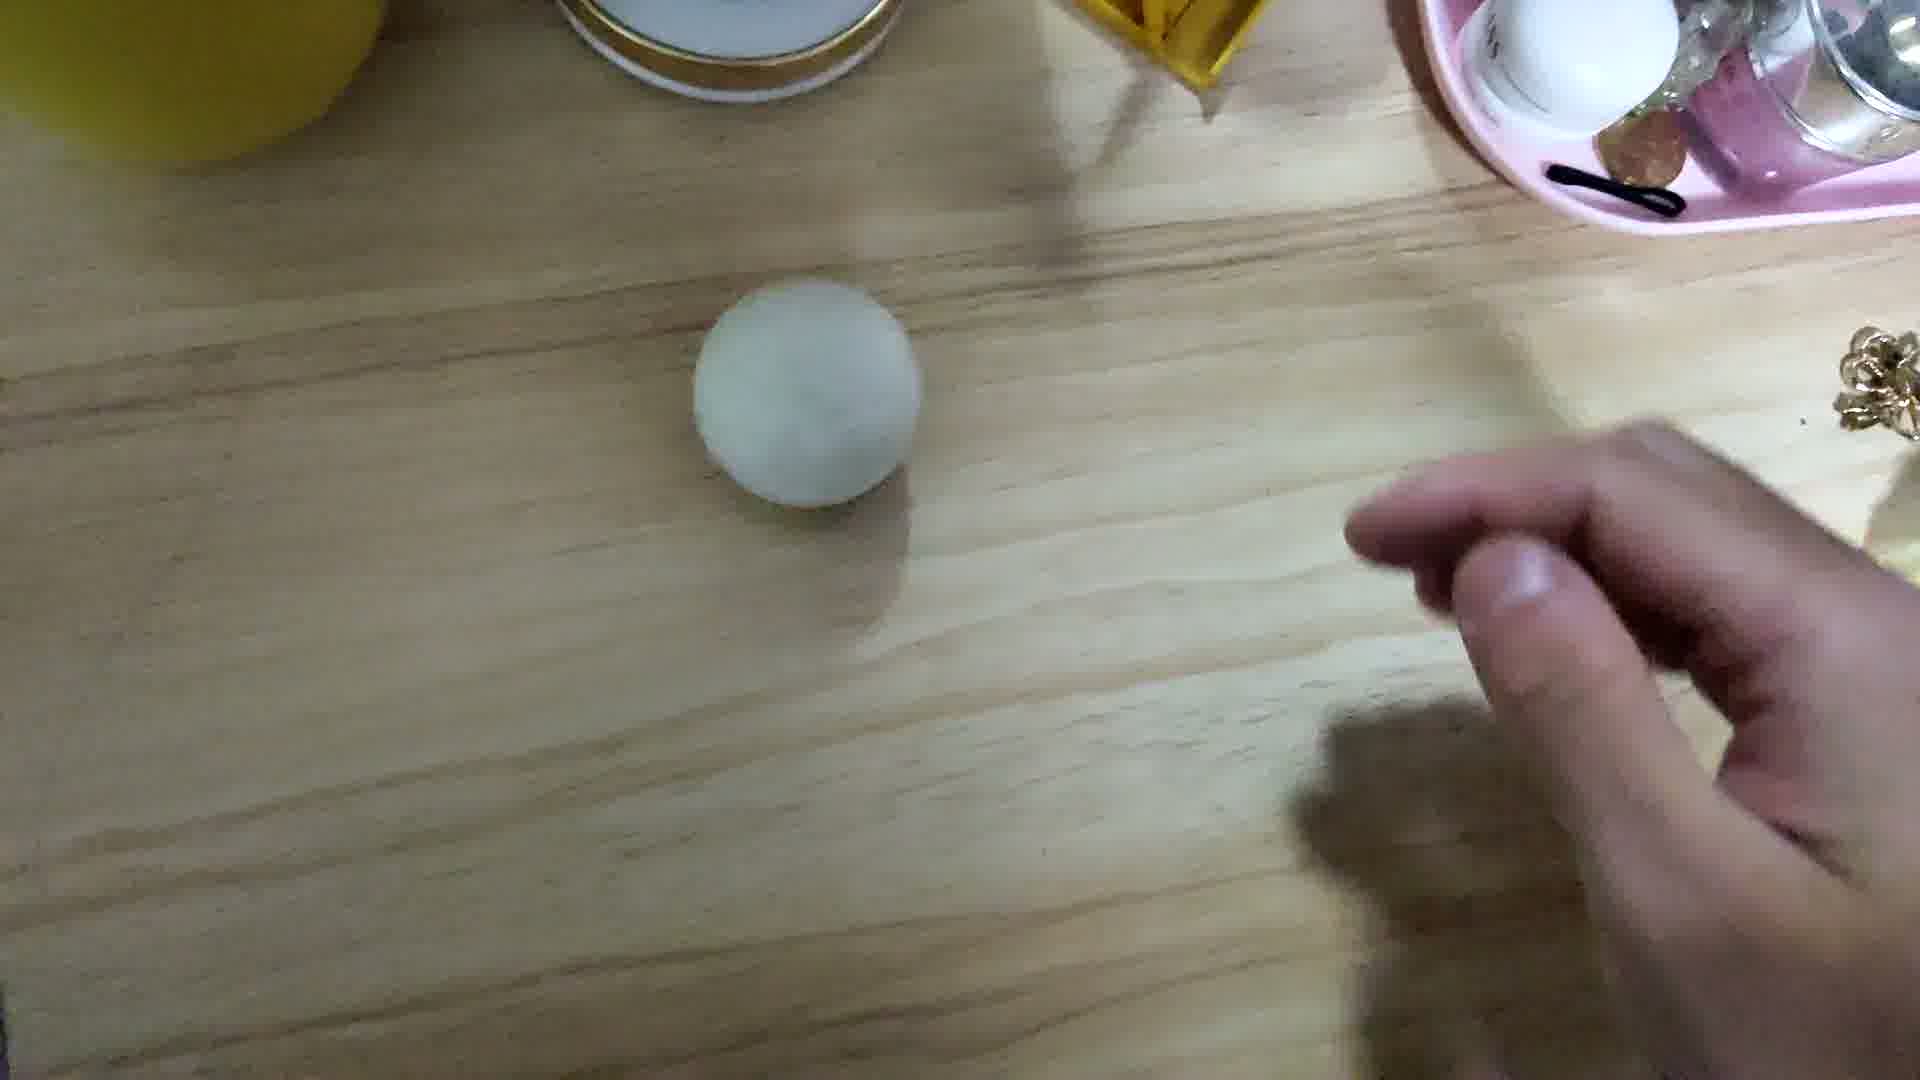Ball: (699, 282, 924, 512)
